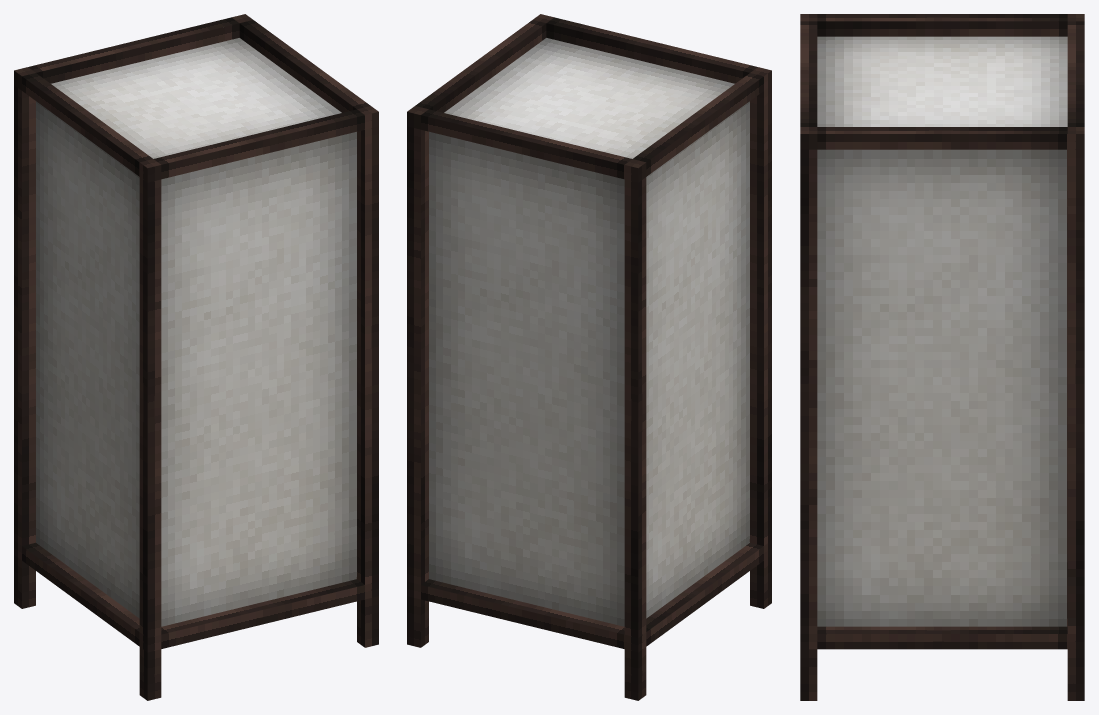
The model's file is andon.fbx.
3 renders of one model, left to right at view 1: azimuth 30°, elevation 25°; view 2: azimuth 150°, elevation 25°; view 3: azimuth 270°, elevation 25°, orthographic. The views are drawn at different scales.
Visible parts, largest first — view 1: andon; view 2: andon; view 3: andon.
Boxes of the visible parts, <box> form: andon: <box>14,14,378,700</box>; andon: <box>407,14,771,700</box>; andon: <box>800,14,1084,700</box>.
Size of the model in its own units: 50 by 110 by 50.
